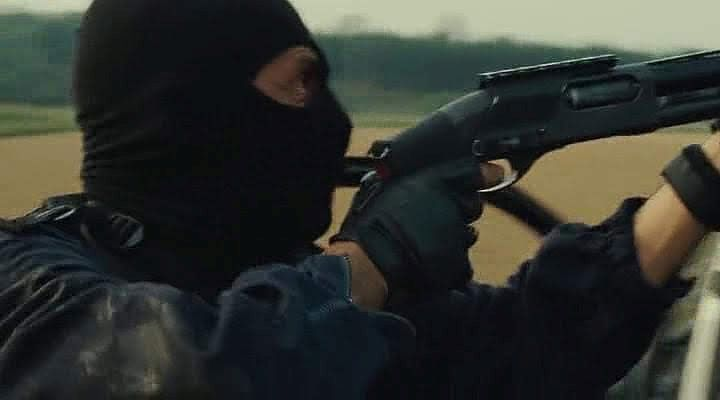gun: (363, 28, 710, 216)
